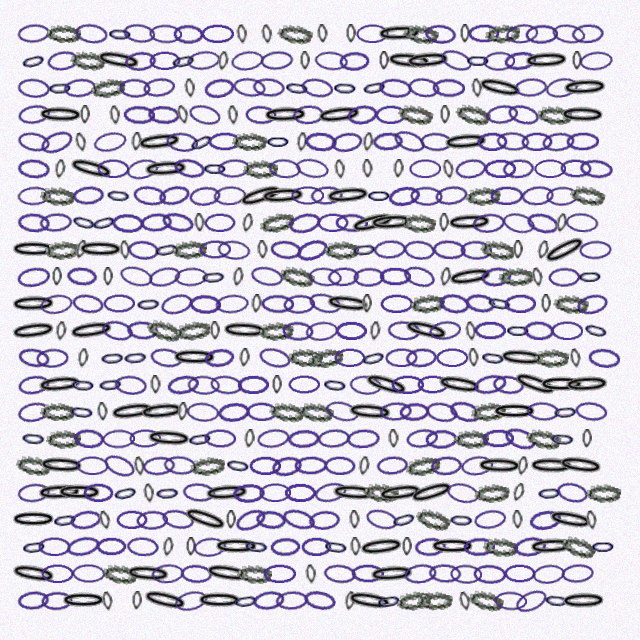chain: (540, 231, 590, 269), (510, 368, 560, 401), (180, 503, 230, 536), (236, 180, 286, 212), (361, 369, 411, 401), (407, 477, 457, 508), (66, 154, 116, 184), (348, 208, 398, 238), (401, 316, 451, 345), (140, 586, 190, 615), (475, 74, 525, 102), (94, 47, 143, 74), (446, 264, 495, 290), (435, 372, 484, 398), (376, 480, 425, 506), (546, 507, 595, 533), (9, 561, 58, 587), (345, 588, 394, 614), (67, 318, 116, 343), (108, 399, 157, 424), (556, 453, 605, 478), (203, 561, 252, 586), (315, 103, 364, 127), (135, 130, 184, 154), (9, 319, 58, 343), (357, 535, 406, 559), (324, 292, 372, 316), (38, 127, 75, 157), (513, 586, 550, 616), (404, 49, 452, 72), (324, 184, 372, 207), (36, 373, 84, 396), (138, 400, 186, 423), (559, 533, 598, 561), (101, 451, 137, 481), (233, 505, 269, 535), (385, 50, 433, 72), (442, 131, 490, 153), (142, 158, 190, 180), (259, 185, 307, 207), (498, 347, 546, 369), (346, 401, 394, 423), (203, 482, 251, 504), (330, 482, 378, 504), (124, 563, 172, 585), (368, 563, 416, 585), (438, 46, 474, 75), (391, 127, 427, 156), (502, 424, 538, 453), (258, 209, 296, 236), (145, 317, 183, 344), (414, 506, 452, 533), (561, 77, 609, 98), (368, 212, 416, 233), (294, 236, 330, 264), (563, 374, 611, 395), (145, 428, 193, 449), (280, 506, 317, 533), (89, 75, 127, 101), (307, 345, 345, 371), (404, 453, 442, 479), (376, 23, 423, 44), (523, 50, 570, 71), (446, 212, 493, 233), (221, 320, 268, 341), (38, 455, 85, 476), (36, 482, 83, 503), (528, 536, 575, 557), (118, 263, 154, 290), (401, 263, 437, 290), (307, 290, 343, 317), (324, 398, 360, 425), (447, 398, 483, 425), (454, 102, 492, 127), (278, 264, 316, 289), (174, 318, 212, 343), (395, 588, 433, 613), (467, 588, 505, 613), (364, 506, 399, 533), (37, 105, 84, 125), (262, 105, 309, 125), (559, 105, 606, 125), (10, 294, 57, 314), (476, 456, 523, 476), (528, 456, 575, 476), (560, 591, 607, 611), (92, 129, 128, 155), (445, 480, 481, 506), (173, 588, 209, 614), (187, 102, 222, 128), (506, 102, 541, 128), (125, 156, 160, 182), (287, 210, 322, 236), (501, 210, 536, 236), (525, 210, 560, 236), (147, 264, 182, 290), (159, 291, 194, 317), (575, 291, 610, 317), (257, 345, 292, 371), (544, 75, 580, 100), (294, 156, 330, 181), (249, 264, 285, 289), (472, 372, 508, 397), (160, 507, 196, 532), (65, 534, 101, 559), (10, 240, 57, 259), (77, 240, 124, 259), (171, 348, 218, 367), (538, 375, 585, 394), (491, 402, 538, 421), (56, 483, 103, 502), (10, 510, 57, 529), (213, 537, 260, 556), (429, 537, 476, 556), (60, 591, 107, 610), (196, 591, 243, 610), (525, 427, 562, 451), (189, 454, 226, 478), (172, 156, 207, 181), (157, 183, 192, 208), (160, 210, 195, 235), (100, 318, 135, 343), (313, 480, 348, 505), (555, 480, 590, 505), (302, 588, 337, 613), (186, 128, 217, 156), (484, 22, 521, 45), (397, 103, 434, 126), (569, 184, 606, 207), (171, 238, 208, 261), (409, 292, 446, 315), (470, 400, 507, 423), (15, 454, 52, 477), (551, 22, 586, 46), (16, 130, 51, 154), (16, 265, 51, 289), (39, 292, 74, 316), (149, 346, 184, 370), (16, 400, 51, 424), (424, 400, 459, 424), (300, 76, 334, 100), (330, 130, 364, 154), (387, 184, 421, 208), (71, 292, 105, 316), (17, 346, 51, 370), (17, 373, 51, 397), (166, 373, 200, 397), (270, 454, 304, 478), (69, 508, 103, 532), (528, 508, 562, 532), (74, 22, 109, 45), (186, 49, 221, 72), (230, 49, 265, 72), (232, 76, 267, 99), (132, 184, 167, 207), (434, 184, 469, 207), (256, 427, 291, 450), (403, 562, 438, 585), (277, 23, 313, 45), (403, 23, 439, 45), (203, 76, 236, 100), (465, 185, 501, 207), (44, 239, 80, 261), (480, 239, 516, 261), (258, 320, 294, 342), (269, 401, 305, 423), (298, 401, 334, 423), (474, 482, 510, 504), (102, 563, 138, 585), (122, 22, 156, 45), (505, 22, 539, 45), (46, 49, 80, 72), (142, 76, 176, 99), (407, 76, 441, 99), (17, 103, 51, 126), (485, 103, 519, 126), (454, 157, 488, 180), (428, 319, 462, 342), (574, 400, 608, 423), (405, 427, 439, 450), (460, 454, 494, 477), (473, 508, 507, 531), (513, 535, 547, 558), (252, 589, 286, 612), (541, 131, 576, 153), (346, 103, 379, 126), (480, 265, 513, 288), (438, 292, 471, 315), (464, 292, 497, 315), (70, 50, 106, 71), (498, 266, 534, 287), (363, 482, 399, 503), (417, 590, 453, 611), (69, 210, 99, 235), (89, 210, 119, 235), (581, 318, 611, 343), (389, 507, 419, 532), (314, 50, 348, 72), (503, 50, 537, 72), (579, 50, 613, 72), (63, 77, 97, 99), (378, 77, 412, 99), (165, 131, 199, 153), (579, 158, 613, 180), (188, 185, 222, 207), (217, 239, 251, 261), (269, 239, 303, 261), (308, 266, 342, 288), (215, 293, 249, 315), (305, 320, 339, 342), (587, 347, 621, 369), (209, 374, 243, 396), (186, 401, 220, 423), (142, 455, 176, 477), (193, 536, 227, 558), (323, 563, 357, 585), (424, 23, 457, 45), (124, 50, 157, 72), (17, 77, 50, 99), (472, 212, 505, 234), (127, 239, 160, 261), (403, 239, 436, 261), (203, 347, 236, 369), (114, 374, 147, 396), (349, 374, 382, 396), (492, 374, 525, 396), (217, 401, 250, 423), (17, 482, 50, 504), (308, 509, 341, 531), (532, 563, 565, 585), (553, 294, 589, 314), (260, 50, 294, 71), (514, 77, 548, 98), (496, 131, 530, 152), (217, 158, 251, 179), (213, 185, 247, 206), (39, 212, 73, 233), (565, 212, 599, 233), (373, 239, 407, 260), (432, 239, 466, 260), (387, 320, 421, 341), (526, 401, 560, 422), (317, 428, 351, 449), (346, 428, 380, 449), (163, 455, 197, 476), (182, 482, 216, 503), (428, 563, 462, 584), (275, 590, 309, 611), (255, 509, 287, 531), (537, 105, 572, 125), (243, 159, 278, 179), (40, 186, 75, 206), (401, 213, 436, 233), (324, 240, 359, 260), (534, 348, 569, 368), (46, 429, 81, 449), (454, 429, 489, 449), (586, 483, 621, 503), (483, 537, 518, 557), (237, 564, 272, 584), (19, 49, 48, 73), (169, 49, 198, 73), (359, 346, 388, 370), (111, 481, 140, 505), (17, 23, 50, 44), (571, 23, 604, 44), (252, 77, 285, 98), (292, 104, 325, 125), (304, 131, 337, 152), (17, 158, 50, 179), (268, 158, 301, 179), (502, 158, 535, 179), (72, 185, 105, 206), (310, 185, 343, 206), (521, 185, 554, 206), (17, 212, 50, 233), (140, 212, 173, 233), (327, 266, 360, 287), (126, 320, 159, 341), (405, 347, 438, 368), (379, 401, 412, 422), (376, 455, 409, 476), (430, 455, 463, 476), (126, 536, 159, 557), (151, 563, 184, 584), (561, 563, 594, 584), (17, 590, 50, 611), (17, 186, 51, 206), (174, 267, 208, 287), (372, 131, 404, 152), (66, 266, 98, 287), (523, 320, 555, 341), (73, 428, 105, 449), (360, 76, 389, 99), (152, 238, 181, 261), (485, 292, 514, 315), (46, 24, 81, 43), (232, 132, 267, 151), (288, 348, 323, 367), (40, 402, 75, 421), (149, 24, 182, 44), (525, 24, 558, 44), (432, 78, 465, 98), (147, 105, 180, 125), (410, 186, 443, 206), (111, 213, 144, 233), (335, 213, 368, 233), (579, 240, 612, 260), (261, 294, 294, 314), (36, 348, 69, 368), (187, 375, 220, 395), (102, 429, 135, 449), (287, 429, 320, 449), (232, 483, 265, 503), (414, 537, 447, 557), (180, 564, 213, 584), (473, 564, 506, 584), (494, 591, 527, 611), (224, 454, 252, 477), (483, 51, 515, 71), (119, 78, 151, 98), (123, 105, 155, 125), (245, 105, 277, 125), (420, 132, 452, 152), (546, 186, 578, 206), (460, 240, 492, 260), (353, 267, 385, 287), (548, 267, 580, 287), (189, 294, 221, 314), (283, 294, 315, 314), (282, 321, 314, 341), (425, 429, 457, 449), (136, 510, 168, 530), (463, 537, 495, 557), (450, 564, 482, 584), (41, 591, 73, 611), (201, 24, 234, 43), (356, 24, 389, 43), (208, 132, 241, 151), (566, 132, 599, 151), (291, 186, 324, 205), (490, 186, 523, 205), (380, 294, 413, 313), (385, 348, 418, 367), (391, 375, 424, 394), (76, 456, 109, 475), (294, 456, 327, 475), (38, 537, 71, 556), (41, 564, 74, 583), (72, 564, 105, 583), (263, 564, 296, 583), (351, 564, 384, 583), (173, 24, 204, 44), (339, 51, 370, 71), (399, 402, 430, 422), (270, 537, 301, 557), (283, 77, 311, 99), (479, 347, 507, 369), (321, 374, 349, 396), (68, 401, 96, 423), (186, 428, 214, 450), (51, 509, 79, 531), (20, 536, 48, 558), (322, 536, 350, 558), (232, 590, 260, 612), (375, 590, 403, 612), (468, 24, 500, 43), (149, 51, 181, 70), (375, 105, 407, 124), (521, 132, 553, 151), (97, 159, 129, 178), (409, 159, 441, 178), (484, 159, 516, 178), (534, 159, 566, 178), (560, 159, 592, 178), (204, 213, 236, 232), (317, 213, 349, 232), (199, 240, 231, 259), (379, 267, 411, 286), (103, 294, 135, 313), (504, 294, 536, 313), (335, 321, 367, 340), (474, 321, 506, 340), (551, 321, 583, 340), (334, 348, 366, 367), (436, 348, 468, 367), (237, 375, 269, 394), (288, 375, 320, 394), (417, 375, 449, 394), (246, 402, 278, 421), (129, 429, 161, 448), (204, 429, 236, 448), (482, 429, 514, 448), (249, 456, 281, 475), (324, 456, 356, 475), (259, 483, 291, 502), (284, 483, 316, 502), (116, 510, 148, 529), (504, 564, 536, 583), (477, 132, 508, 151), (83, 483, 114, 502), (96, 537, 127, 556), (301, 537, 332, 556), (105, 185, 132, 206), (351, 239, 378, 260), (122, 347, 149, 368), (97, 374, 124, 395), (20, 428, 47, 449), (243, 536, 270, 557), (543, 590, 570, 611), (200, 267, 227, 287), (135, 294, 162, 314), (99, 348, 126, 368), (552, 402, 579, 422), (549, 429, 576, 449), (154, 483, 181, 503), (536, 483, 563, 503), (448, 510, 475, 530), (107, 24, 133, 44), (47, 78, 73, 98), (332, 78, 358, 98), (70, 375, 96, 395), (465, 51, 491, 70), (265, 132, 291, 151), (202, 159, 228, 178), (366, 186, 392, 205), (577, 267, 603, 286), (505, 321, 531, 340), (590, 537, 616, 556), (511, 482, 526, 503), (176, 104, 190, 125), (74, 239, 88, 260), (74, 132, 88, 152), (536, 240, 550, 260), (98, 510, 112, 530), (458, 591, 472, 611), (442, 159, 455, 179), (241, 213, 254, 233), (555, 213, 568, 233), (439, 267, 452, 287), (531, 267, 544, 287), (569, 348, 582, 368), (133, 456, 146, 476), (516, 456, 529, 476), (585, 510, 598, 530), (101, 591, 114, 611), (236, 24, 248, 44), (261, 24, 273, 44), (217, 51, 229, 71), (184, 78, 196, 98), (471, 78, 483, 98), (109, 105, 121, 125), (227, 105, 239, 125), (296, 132, 308, 152), (362, 132, 374, 152), (54, 159, 66, 179), (334, 159, 346, 179), (119, 240, 131, 260), (232, 267, 244, 287), (55, 321, 67, 341), (369, 321, 381, 341), (465, 321, 477, 341), (77, 348, 89, 368), (358, 456, 370, 476), (143, 483, 155, 503), (162, 537, 174, 557), (305, 564, 317, 584), (344, 591, 356, 611), (317, 24, 328, 43), (131, 132, 142, 151), (362, 159, 373, 178), (393, 159, 404, 178), (194, 213, 205, 232), (257, 240, 268, 259), (251, 294, 262, 313), (239, 348, 250, 367), (468, 348, 479, 367), (150, 375, 161, 394), (97, 402, 108, 421), (177, 402, 188, 421), (244, 429, 255, 448), (388, 429, 399, 448), (349, 510, 360, 529), (512, 510, 523, 529), (350, 537, 361, 556), (346, 24, 356, 43), (460, 24, 470, 43), (300, 51, 310, 70), (379, 51, 389, 70), (572, 51, 582, 70), (80, 105, 90, 124), (440, 105, 450, 124), (439, 213, 449, 232), (513, 240, 523, 259), (52, 267, 62, 286), (103, 267, 113, 286), (362, 294, 372, 313), (541, 294, 551, 313), (210, 321, 220, 340), (272, 375, 282, 394), (582, 429, 592, 448), (226, 510, 236, 529), (186, 537, 196, 556), (402, 537, 412, 556), (132, 591, 142, 610)
